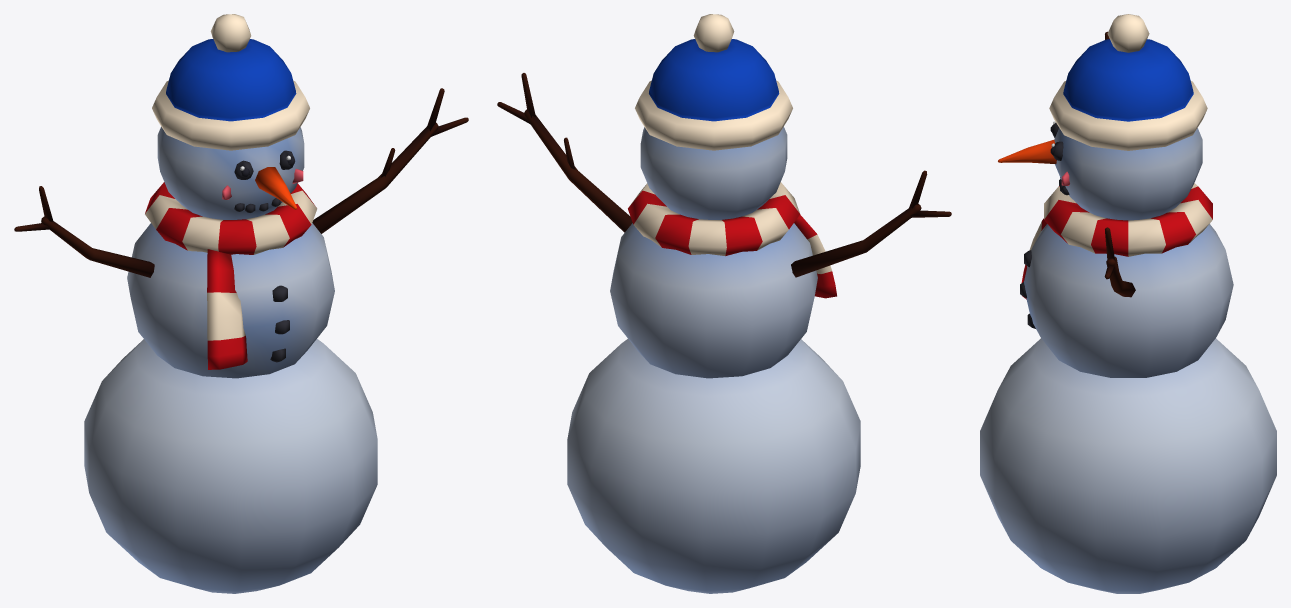
The model's file is Snowman.fbx.
3 views of the same model, side by side, from view 1: azimuth 30°, elevation 25°; view 2: azimuth 150°, elevation 25°; view 3: azimuth 270°, elevation 25° (orthographic).
Parts seen in each view (by area): view 1: Snowman, Head, ArmL, ArmR; view 2: Snowman, Head, ArmL, ArmR; view 3: Snowman, Head, ArmL.
Part boxes in pixels (left/top/right/bottom): Snowman: left=84, top=182, right=377, bottom=593; Head: left=152, top=14, right=309, bottom=219; ArmL: left=312, top=88, right=468, bottom=233; ArmR: left=14, top=186, right=154, bottom=277; Snowman: left=567, top=182, right=860, bottom=593; Head: left=635, top=14, right=792, bottom=219; ArmL: left=497, top=73, right=632, bottom=232; ArmR: left=791, top=170, right=951, bottom=277; Snowman: left=980, top=183, right=1276, bottom=593; Head: left=998, top=14, right=1207, bottom=220; ArmL: left=1104, top=227, right=1135, bottom=297.
Size of the model in its own units: 1.5 by 1.76 by 0.8469.
